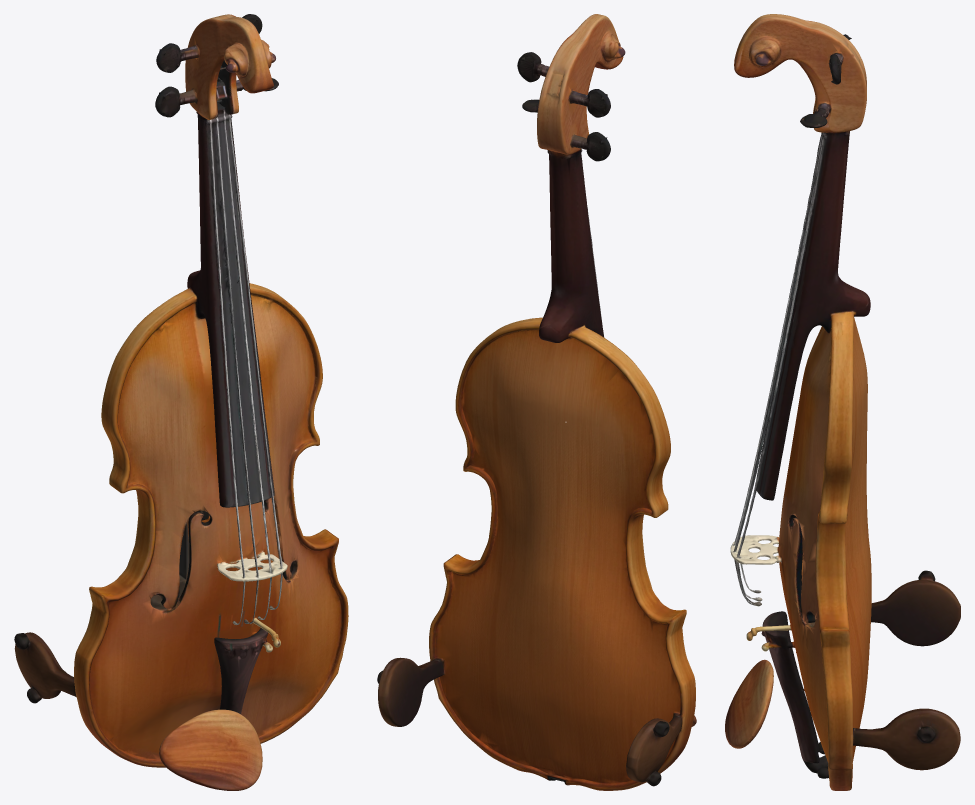
Rendered from viola.glb.
The picture shows the model from 3 angles, left to right: view 1: azimuth 30°, elevation 25°; view 2: azimuth 150°, elevation 25°; view 3: azimuth 270°, elevation 25°; orthographic projection. The views are drawn at different scales.
Parts seen in each view (by area): view 1: tripo_node_bba785cf-9086-4b02-a51c-dbda20da23bf; view 2: tripo_node_bba785cf-9086-4b02-a51c-dbda20da23bf; view 3: tripo_node_bba785cf-9086-4b02-a51c-dbda20da23bf.
Boxes of the visible parts, <box> form: tripo_node_bba785cf-9086-4b02-a51c-dbda20da23bf: <box>14,14,348,790</box>; tripo_node_bba785cf-9086-4b02-a51c-dbda20da23bf: <box>377,14,696,790</box>; tripo_node_bba785cf-9086-4b02-a51c-dbda20da23bf: <box>725,14,960,790</box>.
Bounding box in the file's own units: 0.3974 × 0.9778 × 0.2771.
1 material, 1 textured.
